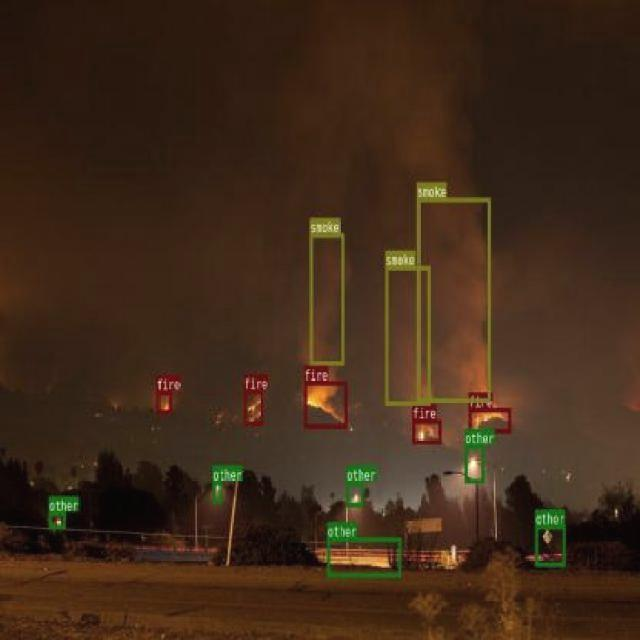fire: (303, 380, 346, 428), (468, 406, 510, 432), (412, 418, 440, 444), (244, 388, 262, 426), (155, 390, 171, 413)
smoke: (416, 196, 490, 402), (385, 265, 430, 404), (309, 233, 343, 364)
